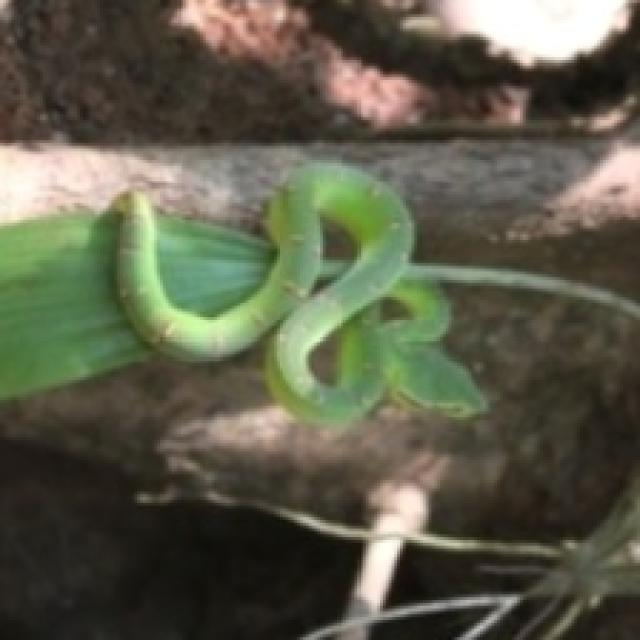north ph temple pitviper: (117, 163, 483, 423)
